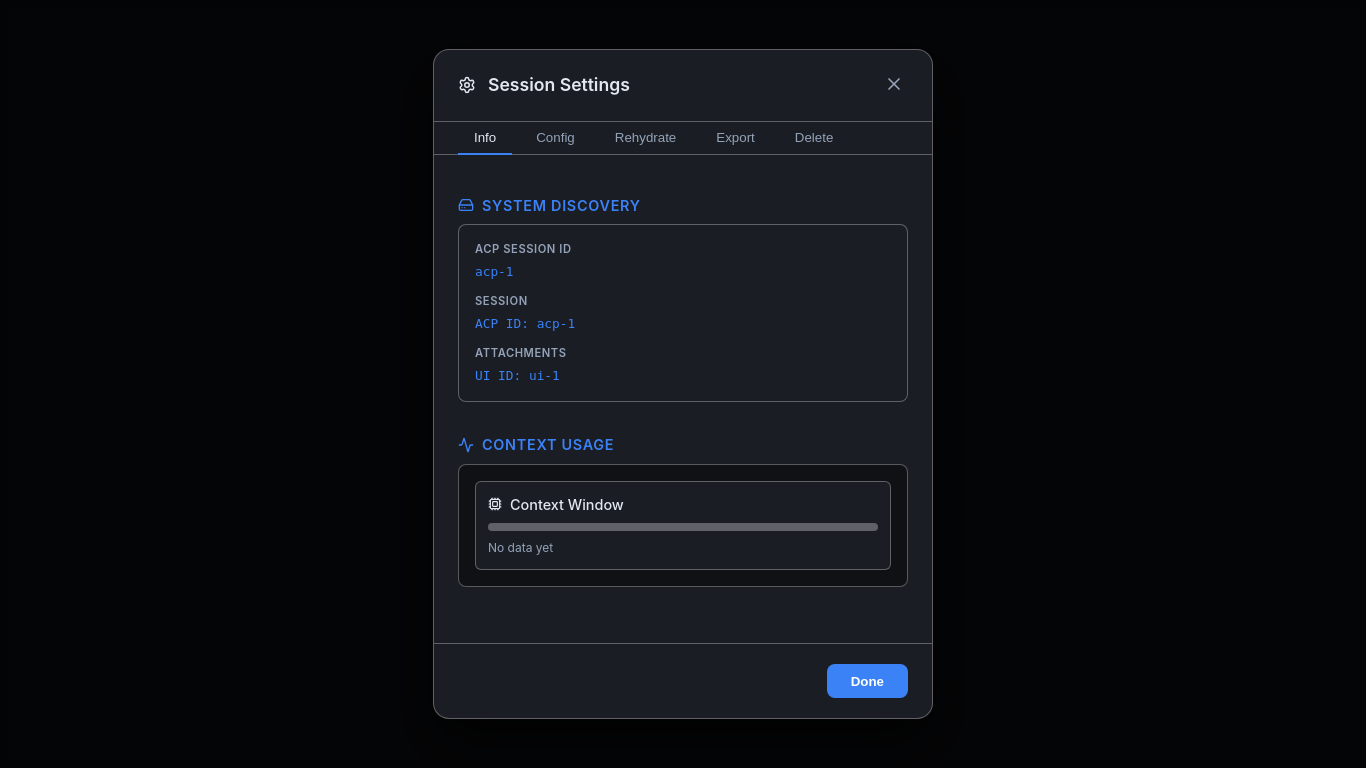
SessionSettingsModal › switches to rehydrate tab
The width and height of the screenshot is (1366, 768).
Click the button "Rehydrate" at (646, 138), box x1=599 y1=122 x2=692 y2=154
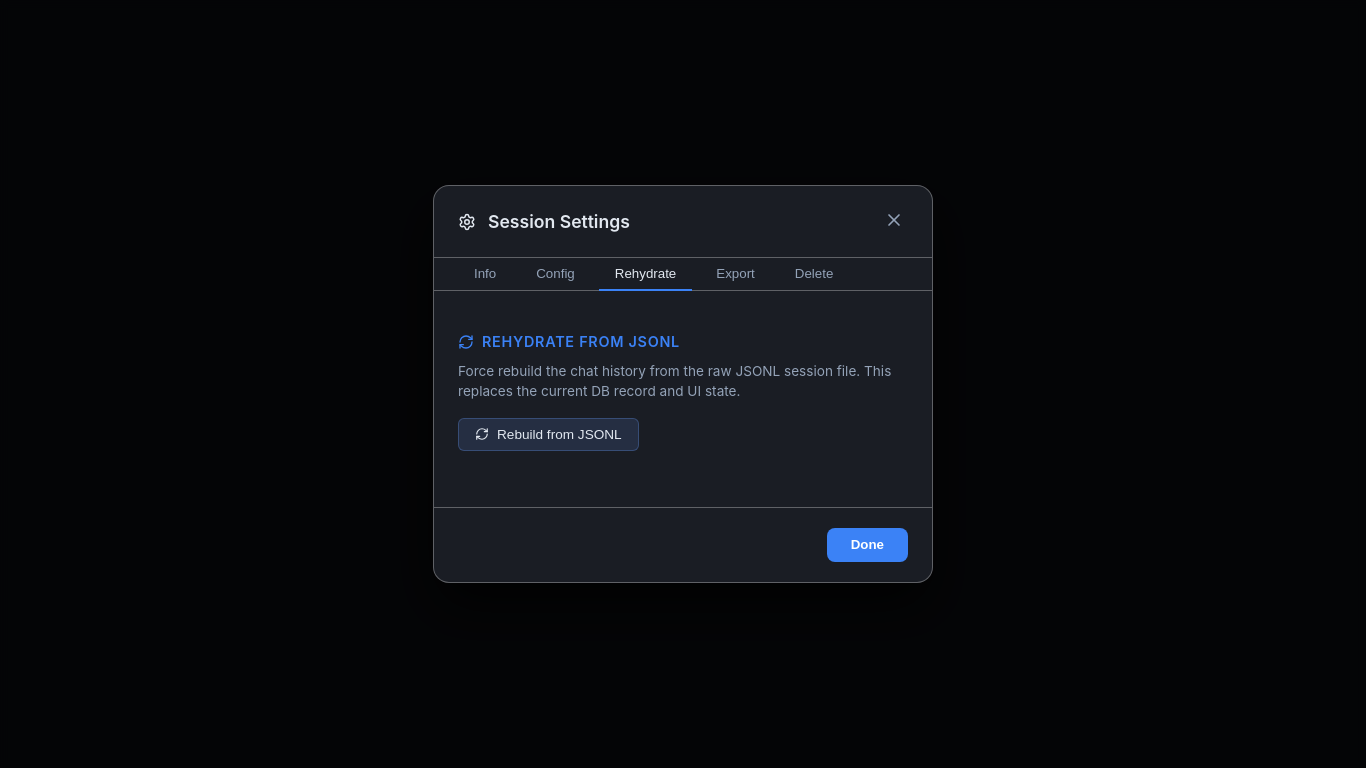
Check: the heading "Rehydrate from JSONL" is shown, box x1=482 y1=331 x2=680 y2=353
Check: the button "Rebuild from JSONL" is shown, box x1=458 y1=418 x2=639 y2=451
